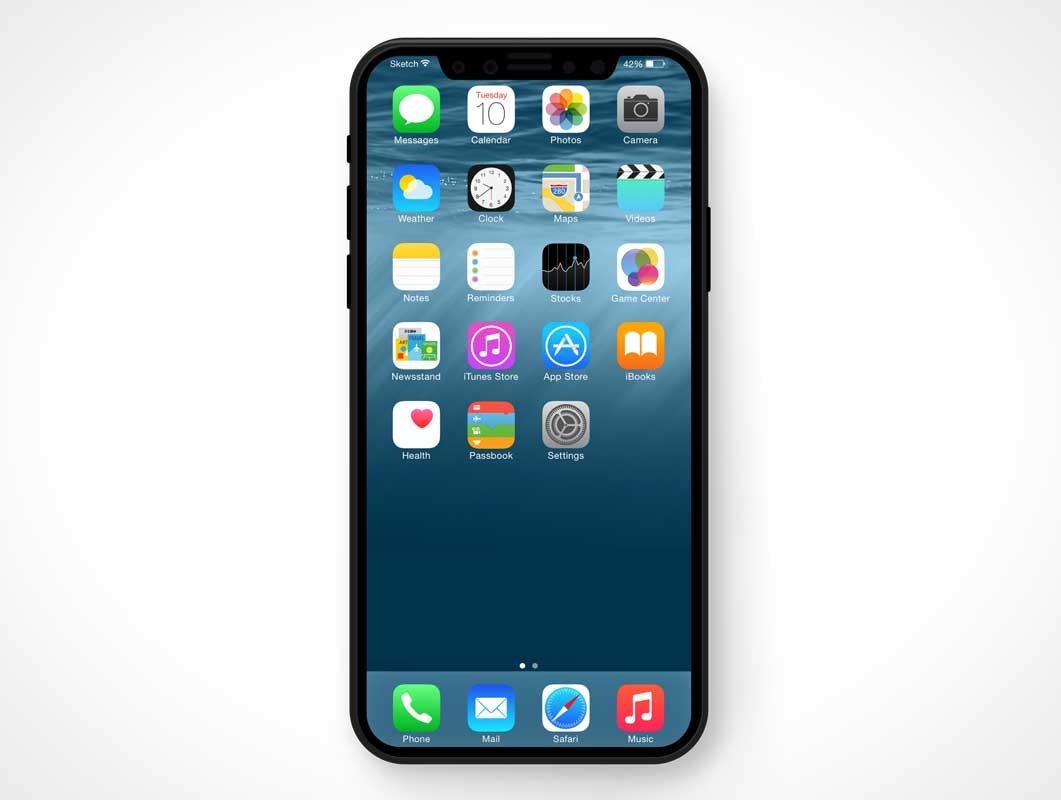Smart Phone: (338, 34, 714, 769)
